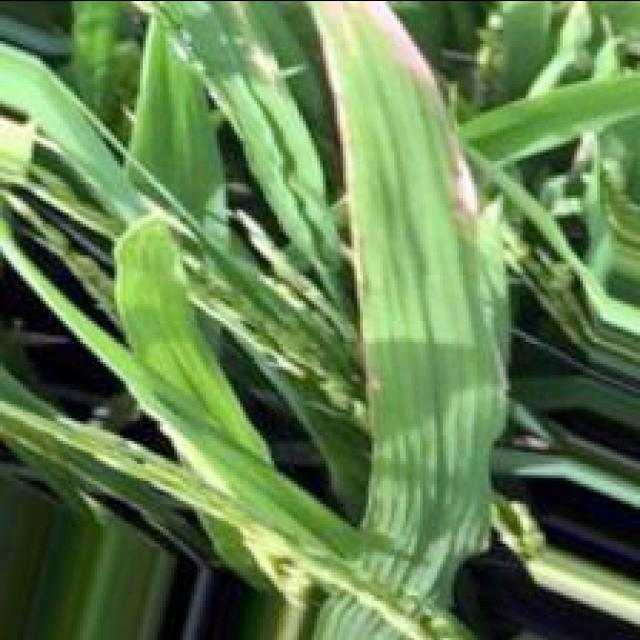Unhealthy: (324, 0, 435, 89), (457, 154, 476, 216)
